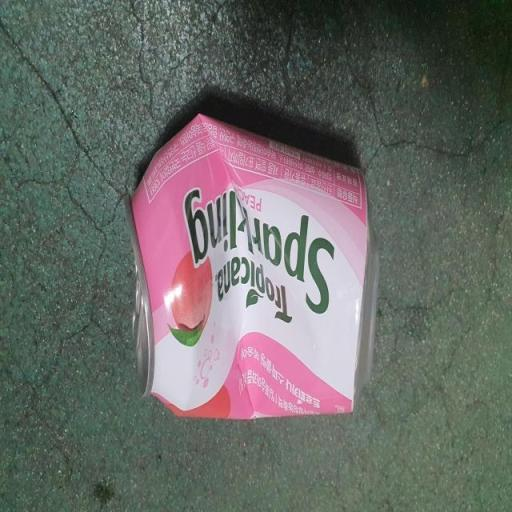metal: (104, 82, 386, 436)
